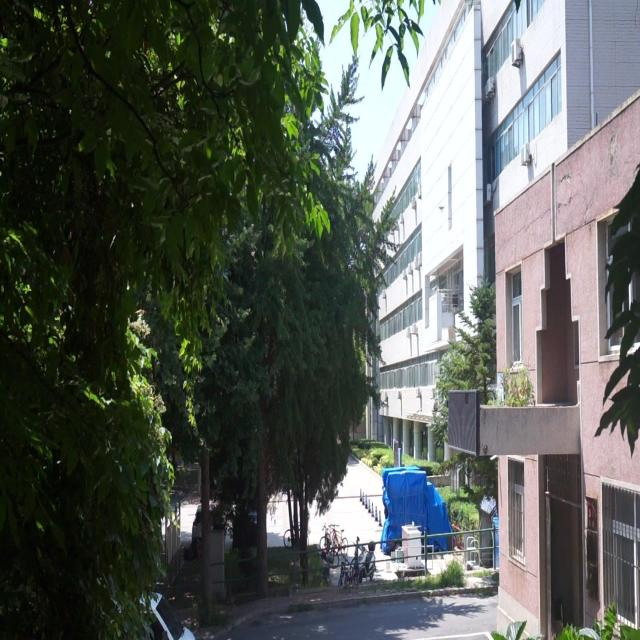drone: (435, 199, 447, 215)
